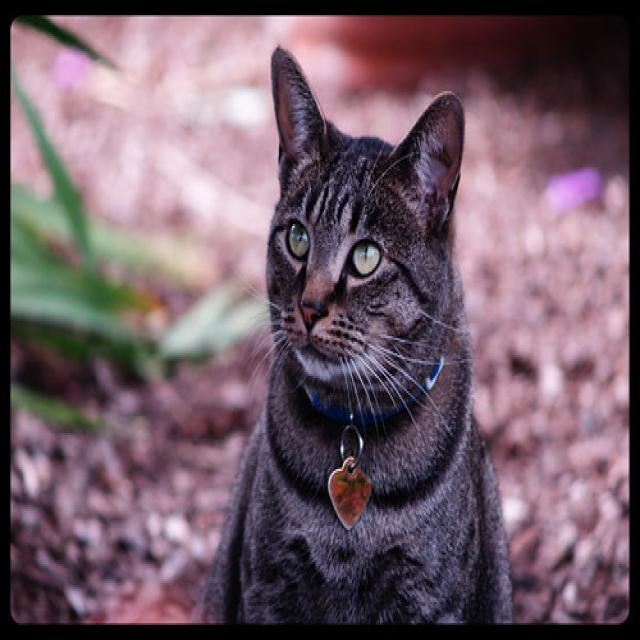cat: (194, 43, 516, 626)
